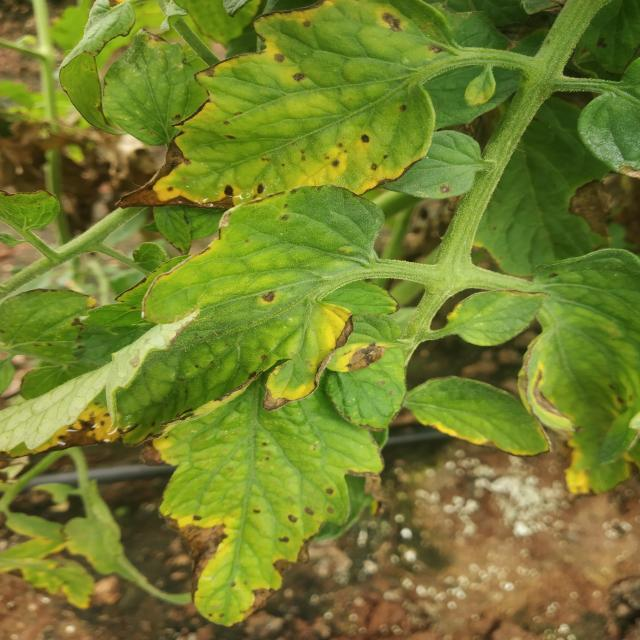Tomato mosaic virus leaf: (103, 0, 455, 214), (1, 279, 358, 458), (138, 438, 354, 628), (130, 183, 384, 326)
